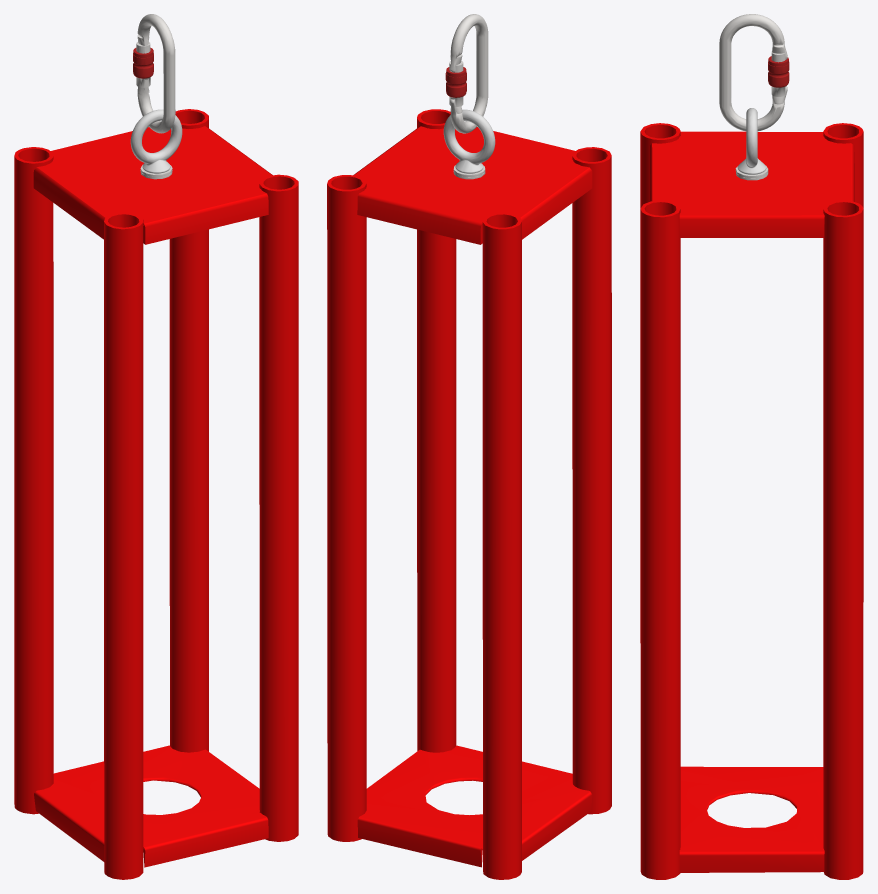
Rendered from Cage.fbx.
3 renders of one model, left to right at view 1: azimuth 30°, elevation 25°; view 2: azimuth 150°, elevation 25°; view 3: azimuth 270°, elevation 25°, orthographic.
Visible parts, largest first — view 1: GE-25201-03, GE-25201-03.001, GE-25201-03.002, GE-25201-03.003, GE-25201-02, GE-25201-01, 3216T41_Carabiner, eyebolt_shoulder_.5_13_1.5; view 2: GE-25201-03.002, GE-25201-03.003, GE-25201-03, GE-25201-03.001, GE-25201-02, GE-25201-01, 3216T41_Carabiner, eyebolt_shoulder_.5_13_1.5; view 3: GE-25201-03.003, GE-25201-03.001, GE-25201-02, GE-25201-01, 3216T41_Carabiner, GE-25201-03, GE-25201-03.002, eyebolt_shoulder_.5_13_1.5.
Boxes of the visible parts, bbox=[...] form: GE-25201-03: bbox=[104, 212, 143, 879]; GE-25201-03.001: bbox=[259, 174, 298, 841]; GE-25201-03.002: bbox=[14, 147, 53, 814]; GE-25201-03.003: bbox=[169, 109, 208, 752]; GE-25201-02: bbox=[33, 126, 272, 244]; GE-25201-01: bbox=[34, 745, 268, 867]; 3216T41_Carabiner: bbox=[133, 14, 175, 133]; eyebolt_shoulder_.5_13_1.5: bbox=[130, 109, 182, 173]; GE-25201-03.002: bbox=[482, 212, 521, 879]; GE-25201-03.003: bbox=[327, 175, 366, 841]; GE-25201-03: bbox=[572, 147, 611, 814]; GE-25201-03.001: bbox=[417, 109, 456, 752]; GE-25201-02: bbox=[353, 126, 592, 244]; GE-25201-01: bbox=[357, 745, 592, 867]; 3216T41_Carabiner: bbox=[445, 14, 488, 133]; eyebolt_shoulder_.5_13_1.5: bbox=[443, 109, 495, 173]; GE-25201-03.003: bbox=[823, 200, 863, 879]; GE-25201-03.001: bbox=[640, 200, 680, 879]; GE-25201-02: bbox=[649, 131, 854, 237]; GE-25201-01: bbox=[679, 766, 824, 872]; 3216T41_Carabiner: bbox=[719, 14, 789, 131]; GE-25201-03: bbox=[640, 123, 680, 208]; GE-25201-03.002: bbox=[823, 123, 863, 207]; eyebolt_shoulder_.5_13_1.5: bbox=[737, 108, 766, 174].
Bounding box in the file's own units: 18.57 × 75.28 × 18.6.
